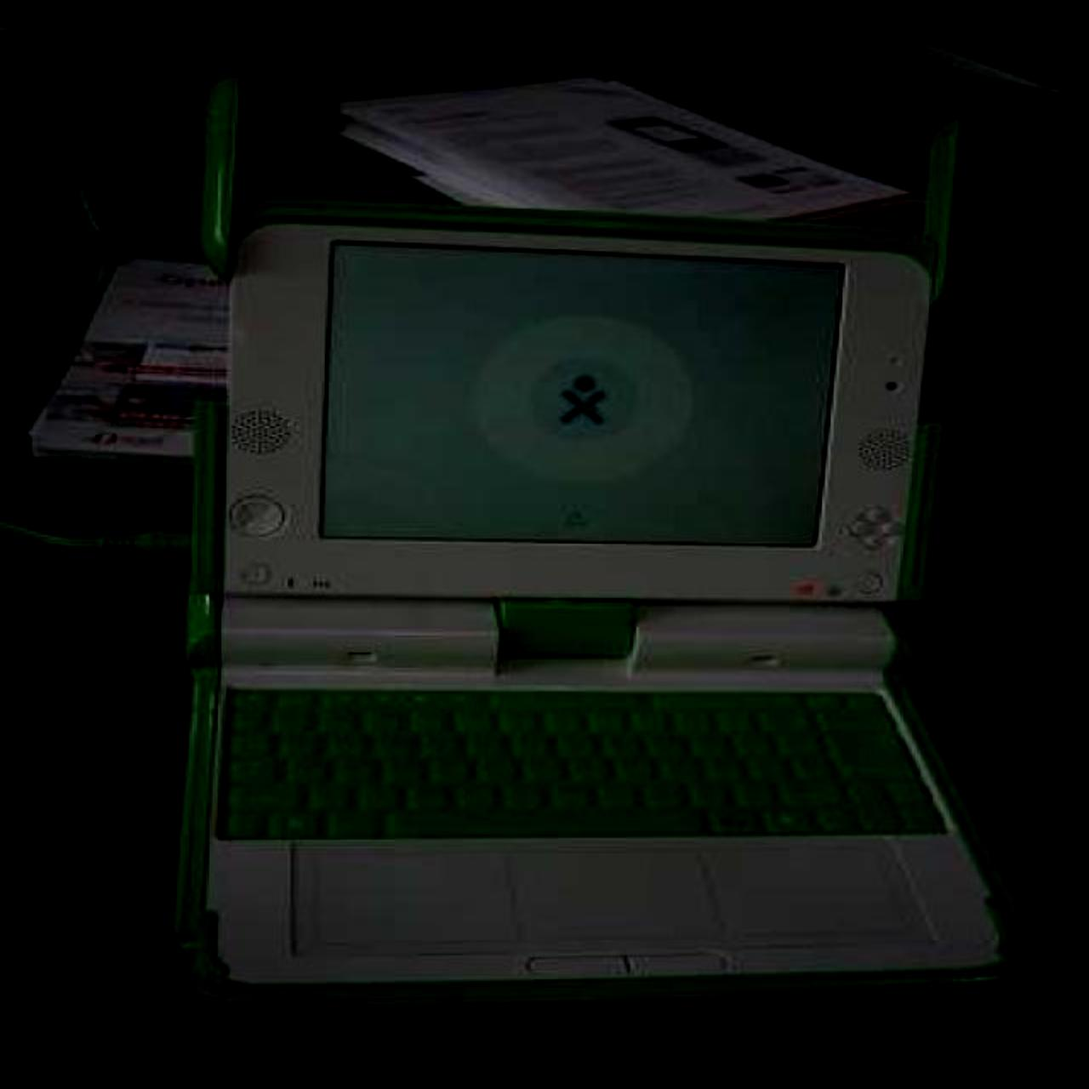laptop: (228, 233, 963, 992)
